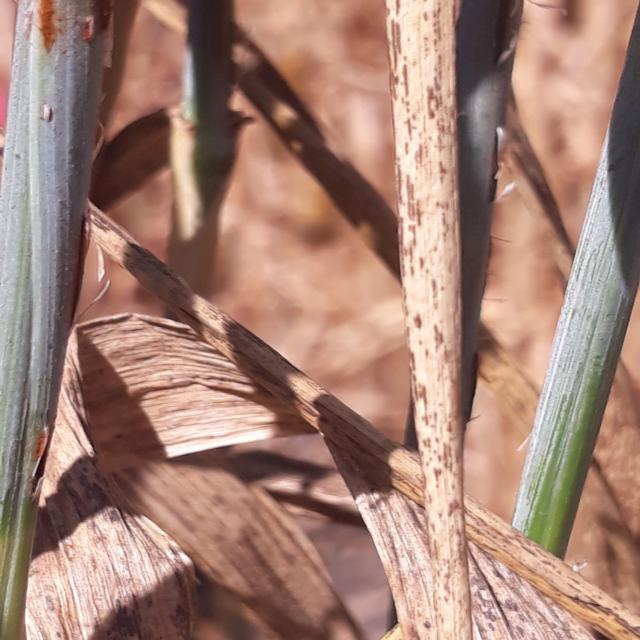black_stem_rust: (312, 0, 640, 640), (0, 0, 285, 640)
